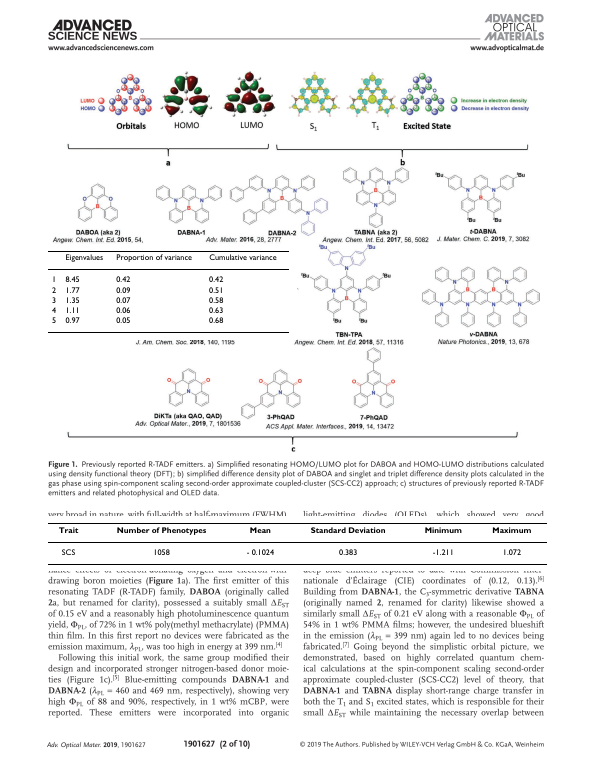borderless: (47, 521, 547, 564), (47, 249, 289, 333)
cell: (115, 526, 207, 535), (115, 253, 192, 263), (309, 526, 386, 535), (208, 253, 277, 263), (64, 253, 104, 263), (491, 526, 532, 535), (423, 526, 462, 535), (245, 548, 275, 556), (248, 526, 271, 535), (57, 526, 79, 535), (431, 548, 454, 556), (501, 548, 522, 556), (338, 548, 358, 556), (64, 286, 80, 296), (115, 286, 131, 296), (208, 286, 224, 296), (64, 296, 80, 306), (115, 296, 131, 306), (208, 296, 224, 306), (64, 306, 80, 316), (115, 306, 131, 316), (208, 306, 224, 316), (152, 548, 170, 556), (64, 276, 80, 285), (115, 276, 131, 285), (208, 276, 224, 285), (64, 317, 80, 326), (115, 317, 131, 326), (208, 317, 224, 326), (60, 548, 76, 556), (50, 286, 57, 296), (50, 296, 57, 306), (50, 306, 57, 316), (50, 276, 57, 285), (50, 317, 57, 326)
